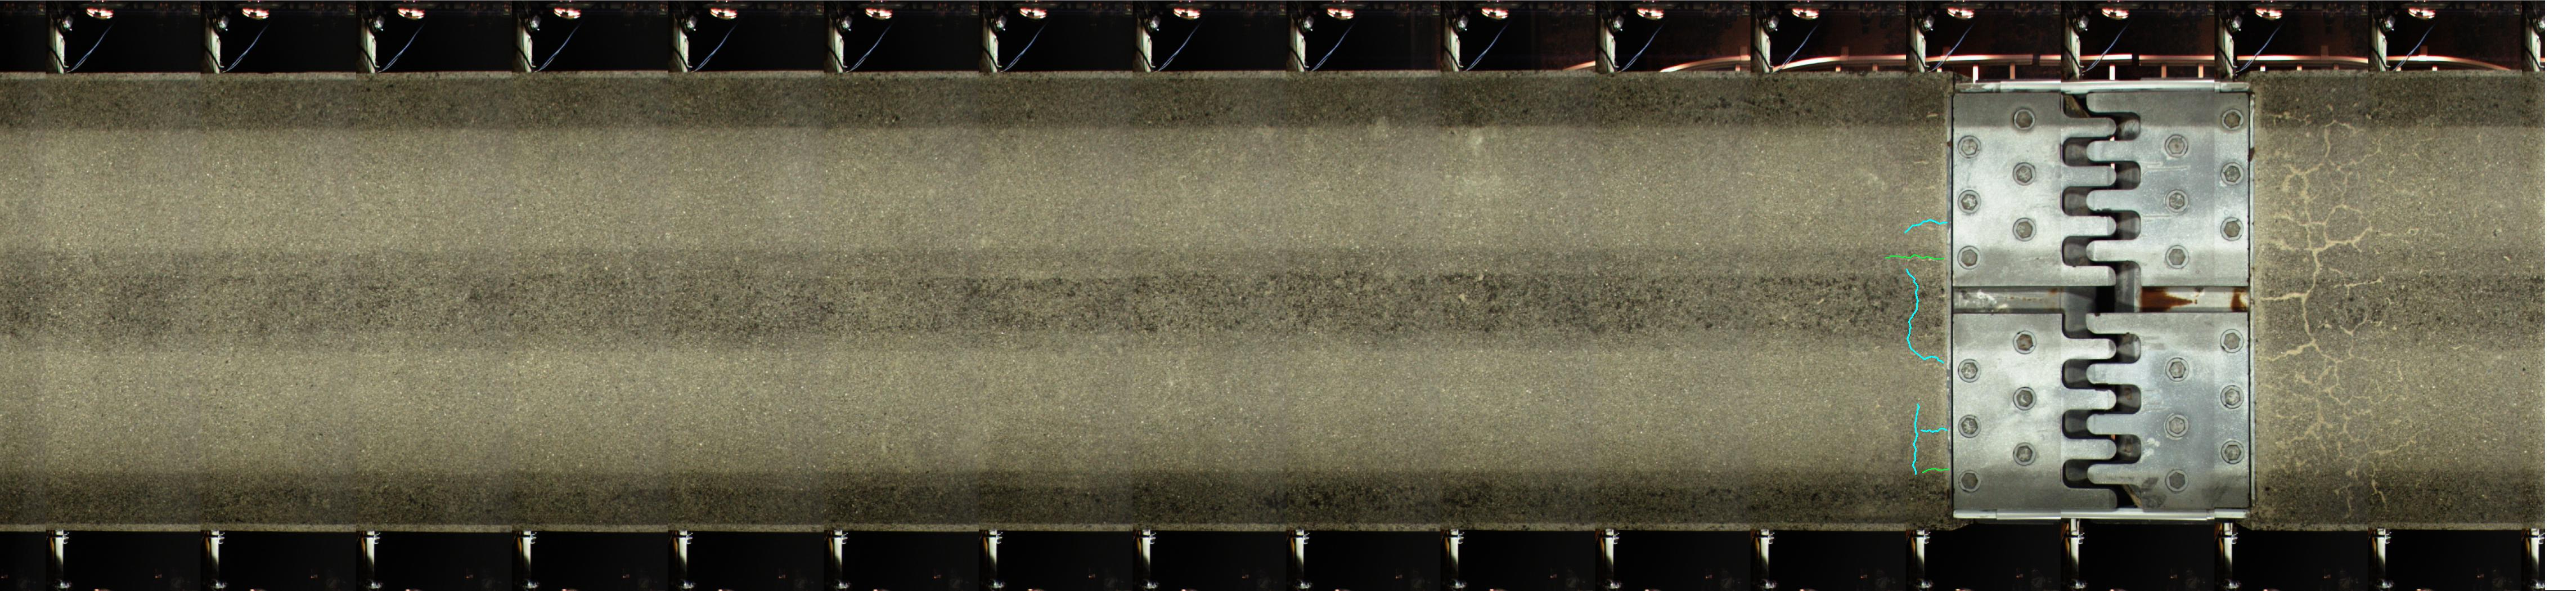concrete: (0, 72, 1950, 527), (2254, 72, 2543, 529)
